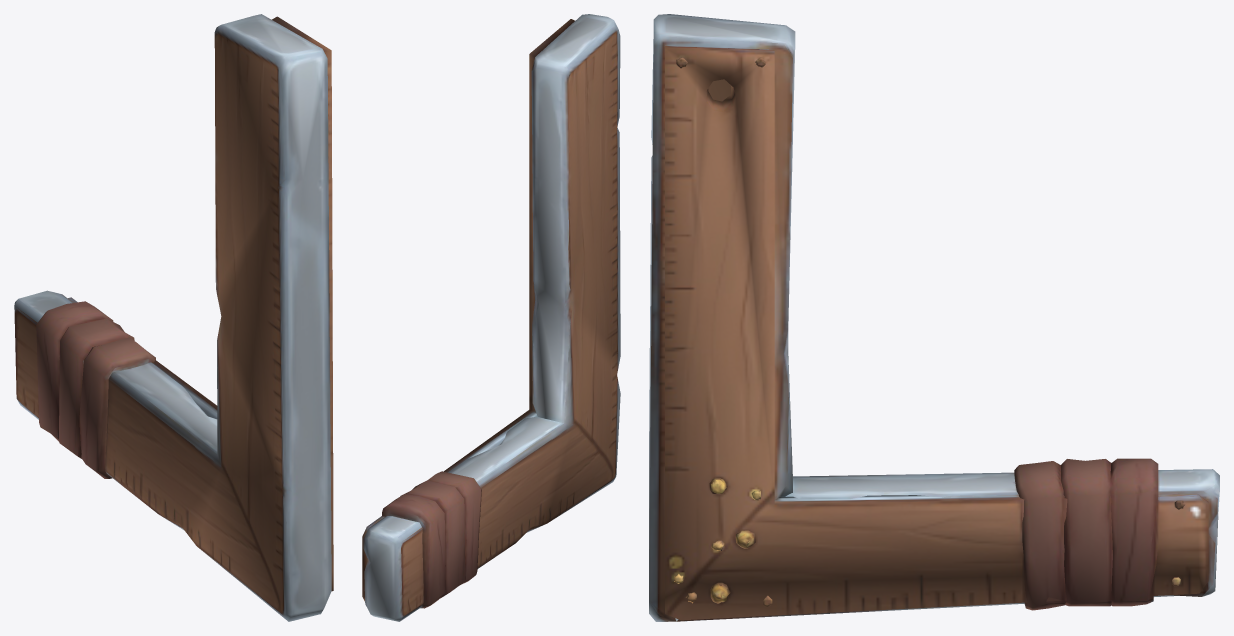
The model's file is architect_square_tripo.glb.
3 views of the same model, side by side, from view 1: azimuth 30°, elevation 25°; view 2: azimuth 150°, elevation 25°; view 3: azimuth 270°, elevation 25° (orthographic). The views are drawn at different scales.
Parts seen in each view (by area): view 1: tripo_node_381a19af-5127-4301-a930-873f42776e16.001; view 2: tripo_node_381a19af-5127-4301-a930-873f42776e16.001; view 3: tripo_node_381a19af-5127-4301-a930-873f42776e16.001.
Part boxes in pixels (x1,y1,x2,y2): tripo_node_381a19af-5127-4301-a930-873f42776e16.001: (14, 14, 333, 621); tripo_node_381a19af-5127-4301-a930-873f42776e16.001: (362, 14, 620, 621); tripo_node_381a19af-5127-4301-a930-873f42776e16.001: (649, 14, 1219, 621).
Size of the model in its own units: 0.0723 by 0.5566 by 0.4883.
Materials: 1 (1 with a texture image).
